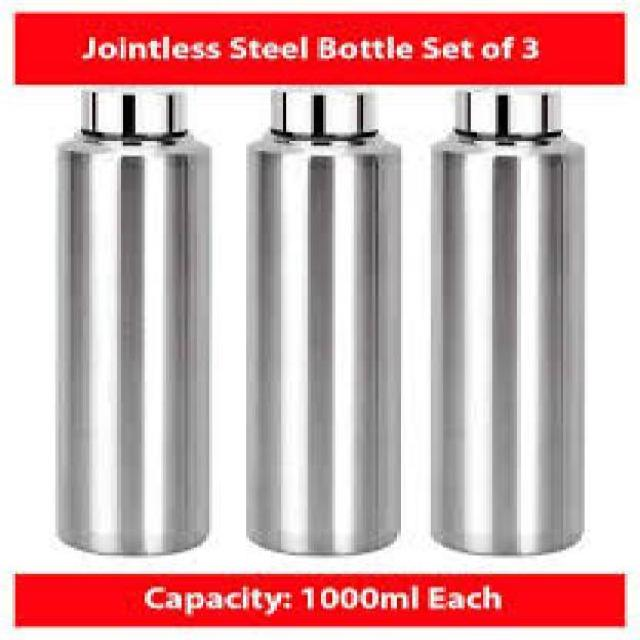Drinking: (37, 71, 221, 566), (428, 74, 584, 540)
